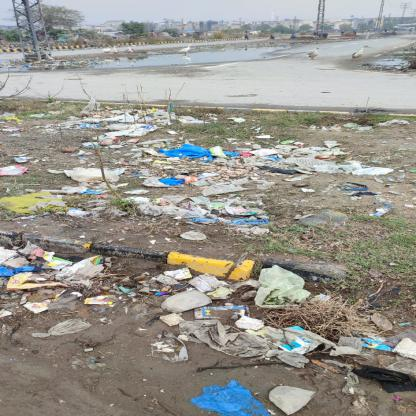Garbage: (6, 237, 416, 383), (58, 101, 340, 241)
